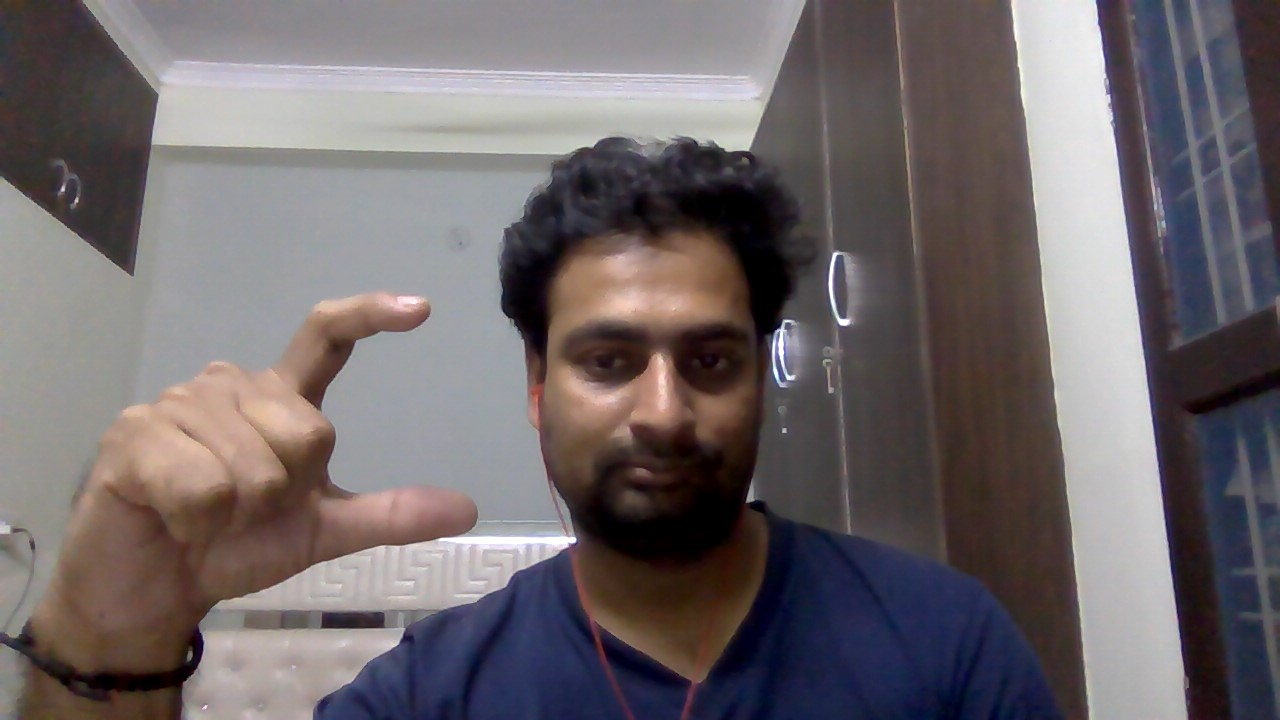Paste: (48, 281, 492, 670)
